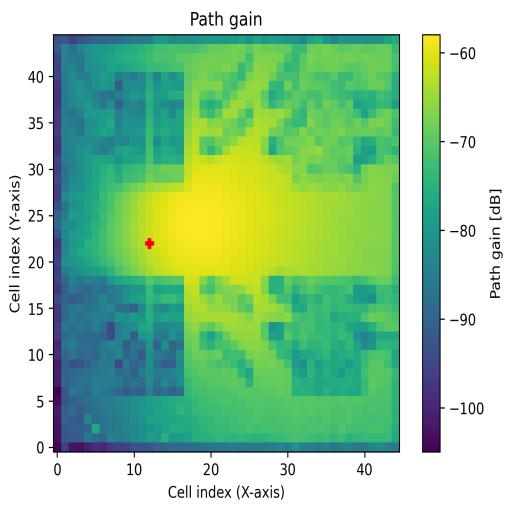Concrete: (289, 72, 368, 193)
Glass: (113, 73, 184, 182)
Metal: (292, 275, 368, 397)
Wood: (107, 275, 184, 396)
